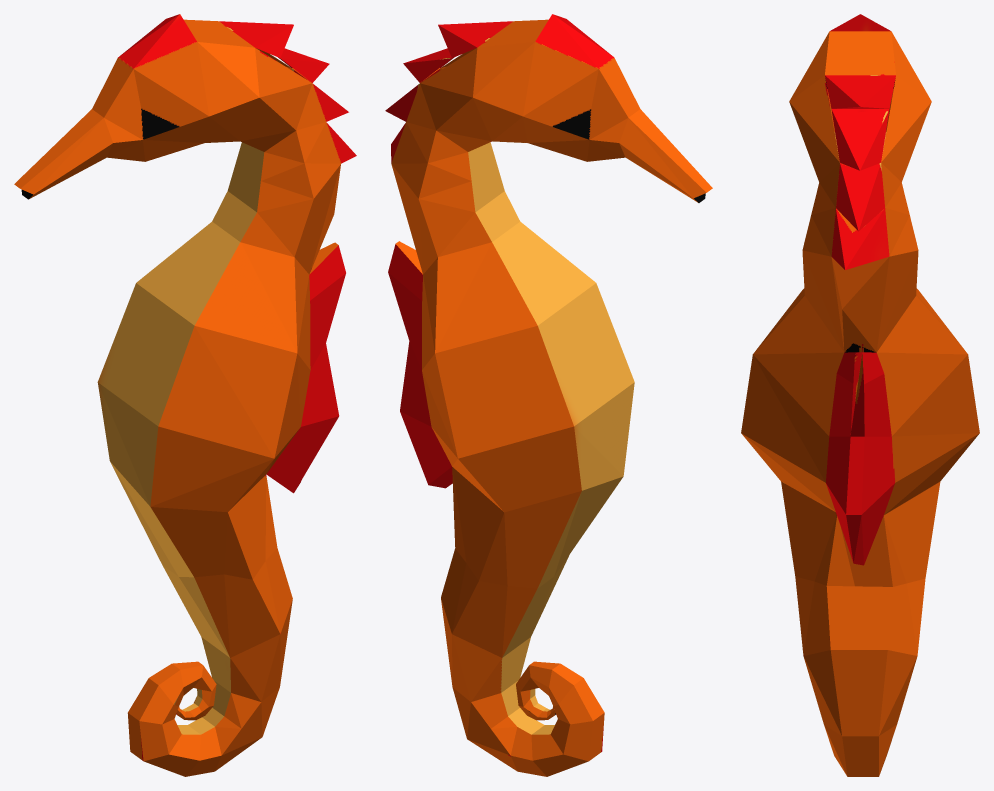
The model's file is seaHorse1.gltf.
3 renders of one model, left to right at view 1: azimuth 30°, elevation 25°; view 2: azimuth 150°, elevation 25°; view 3: azimuth 270°, elevation 25°, orthographic.
Parts seen in each view (by area): view 1: Cube; view 2: Cube; view 3: Cube.
Boxes of the visible parts, left/top/right/bottom form: Cube: left=14, top=14, right=356, bottom=776; Cube: left=385, top=14, right=712, bottom=776; Cube: left=741, top=14, right=979, bottom=776.
Bounding box in the file's own units: 4.99 × 11 × 3.18.
Materials: 1 (1 with a texture image).
